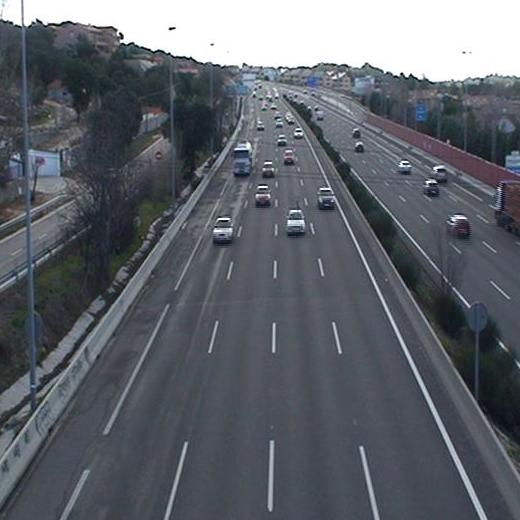car: (284, 208, 307, 236), (211, 216, 235, 242), (315, 186, 337, 209), (253, 183, 271, 206), (260, 159, 276, 177), (283, 148, 295, 163), (293, 126, 305, 140), (277, 134, 287, 146)
tank-truck: (233, 140, 254, 177)
